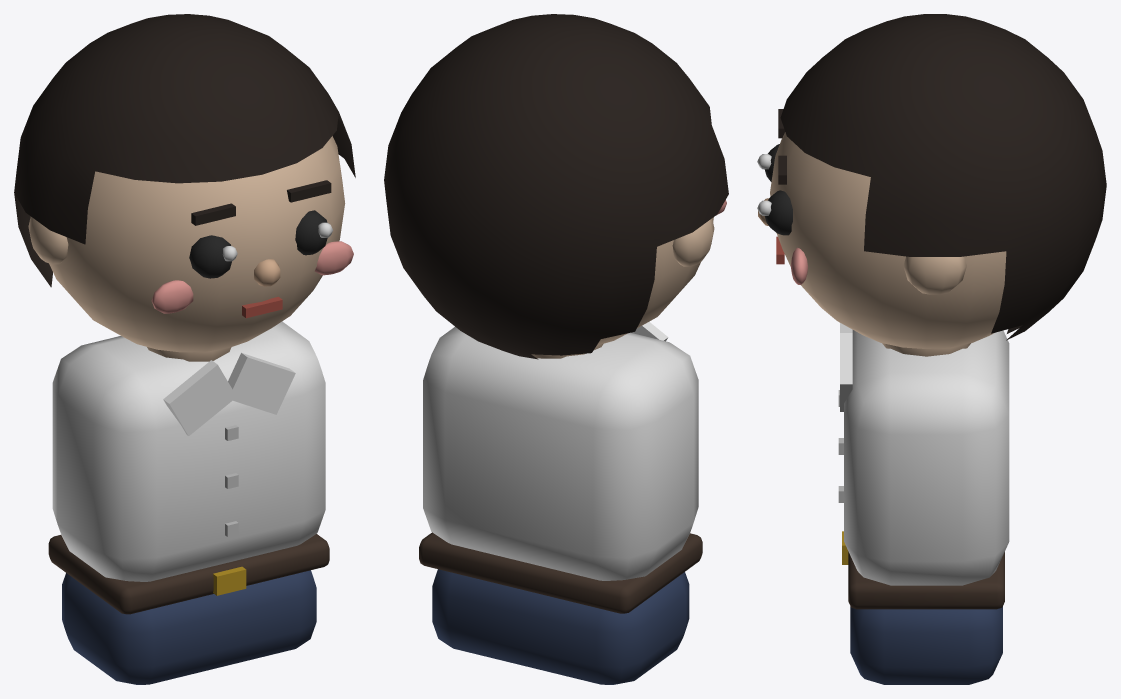
The model's file is person_a.glb.
The picture shows the model from 3 angles, left to right: view 1: azimuth 30°, elevation 25°; view 2: azimuth 150°, elevation 25°; view 3: azimuth 270°, elevation 25°; orthographic projection.
Parts seen in each view (by area): view 1: person_a; view 2: person_a; view 3: person_a.
Part boxes in pixels (left/top/right/bottom): person_a: left=14, top=14, right=355, bottom=684; person_a: left=384, top=14, right=728, bottom=684; person_a: left=757, top=14, right=1106, bottom=684.
Size of the model in its own units: 0.1631 by 0.322 by 0.165.
